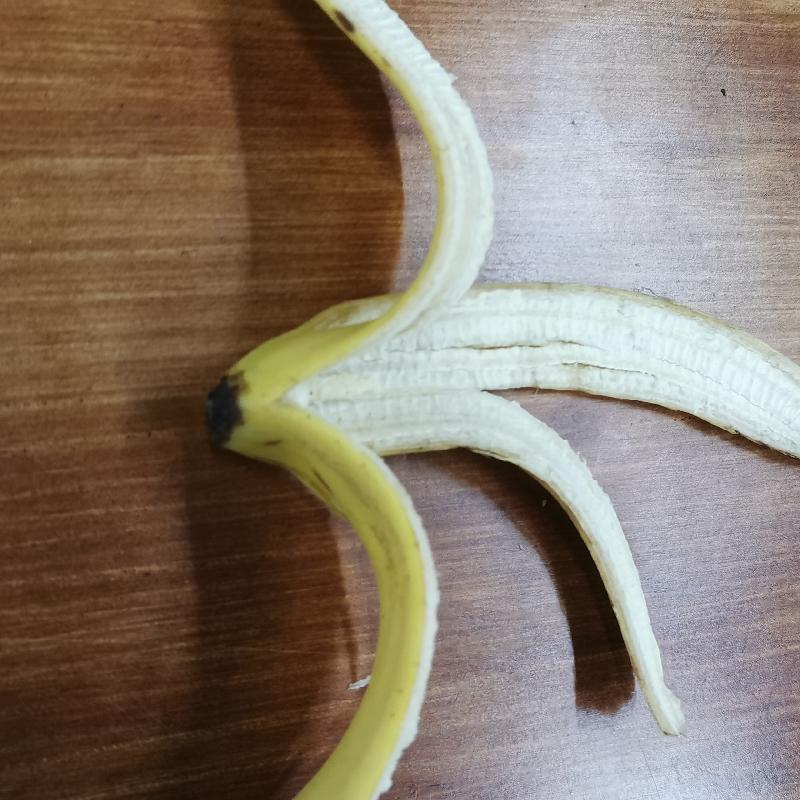bananas: (145, 16, 800, 800)
